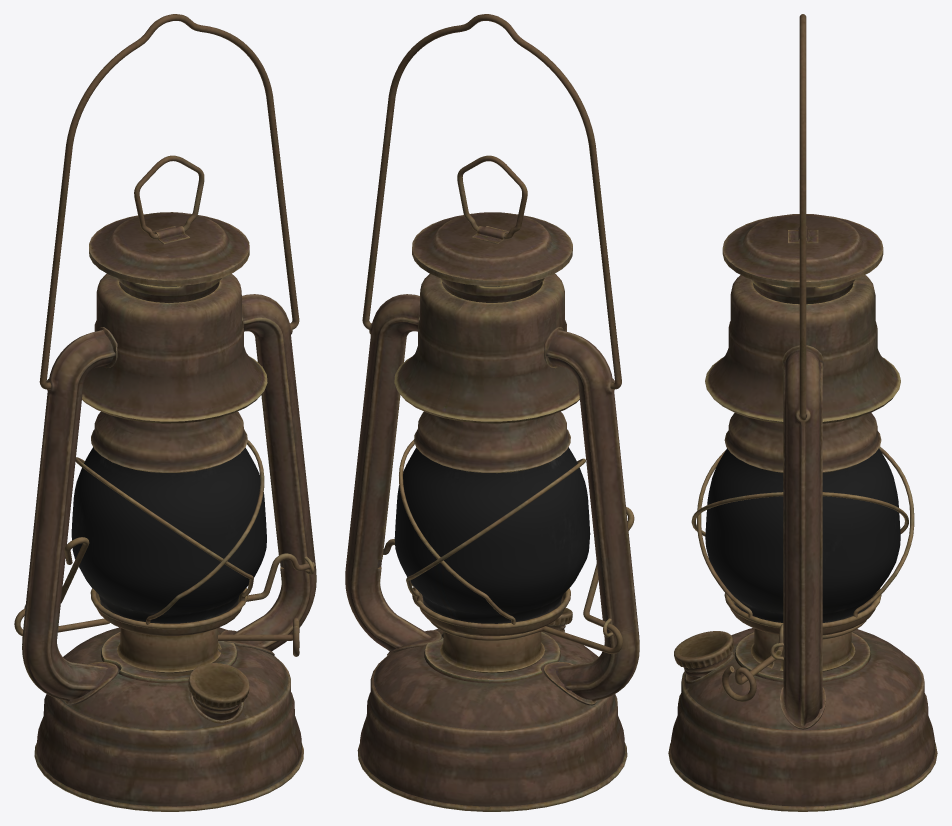
The model's file is Lantern_01_1k.gltf.
3 views of the same model, side by side, from view 1: azimuth 30°, elevation 25°; view 2: azimuth 150°, elevation 25°; view 3: azimuth 270°, elevation 25° (orthographic).
Parts seen in each view (by area): view 1: Lantern_01, Lantern_01_glass; view 2: Lantern_01, Lantern_01_glass; view 3: Lantern_01, Lantern_01_glass.
Boxes of the visible parts, x1,y1,x2,y2 form: Lantern_01: (14, 14, 316, 811); Lantern_01_glass: (71, 447, 266, 623); Lantern_01: (345, 14, 639, 811); Lantern_01_glass: (394, 447, 590, 623); Lantern_01: (668, 14, 937, 811); Lantern_01_glass: (705, 448, 900, 622).
Bounding box in the file's own units: 0.1221 × 0.2942 × 0.0972.
2 materials, 2 textured.
